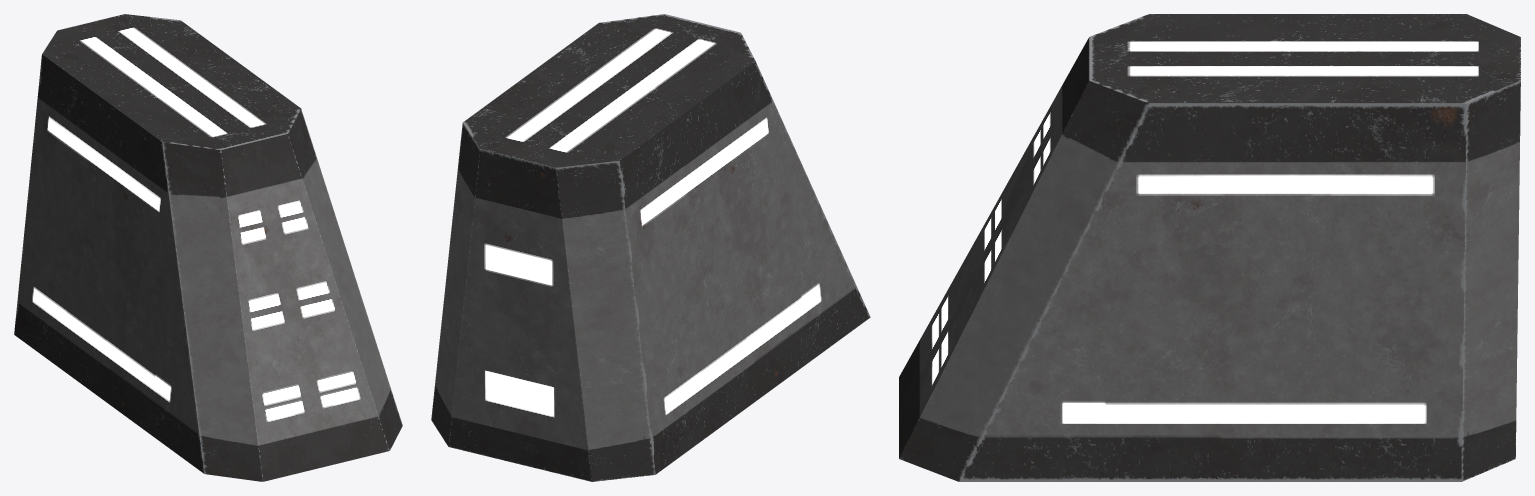
The model's file is tower_m_1.fbx.
3 renders of one model, left to right at view 1: azimuth 30°, elevation 25°; view 2: azimuth 150°, elevation 25°; view 3: azimuth 270°, elevation 25°, orthographic. The views are drawn at different scales.
Parts seen in each view (by area): view 1: tower_m_1; view 2: tower_m_1; view 3: tower_m_1.
Boxes of the visible parts, left/top/right/bottom form: tower_m_1: left=14, top=14, right=402, bottom=481; tower_m_1: left=431, top=14, right=870, bottom=481; tower_m_1: left=899, top=14, right=1520, bottom=481.
Size of the model in its own units: 7.44 by 9.75 by 15.29.
